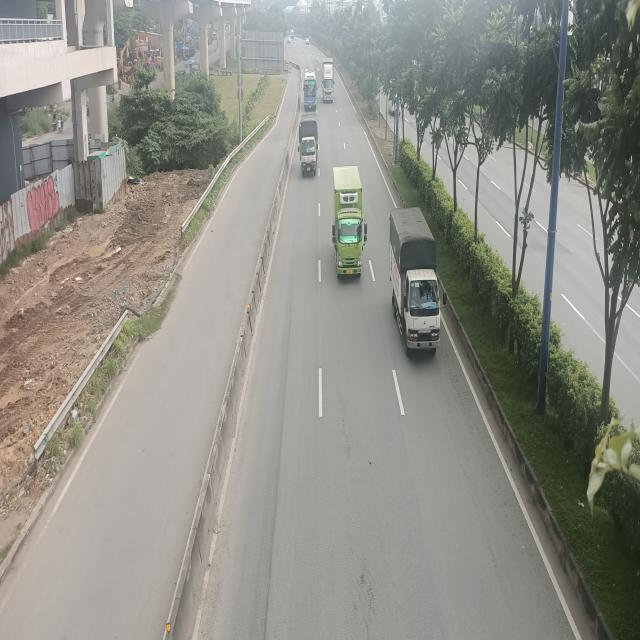coach: (304, 73, 318, 112)
truck: (389, 208, 446, 356), (332, 167, 368, 281), (299, 116, 319, 178), (322, 60, 335, 104)
